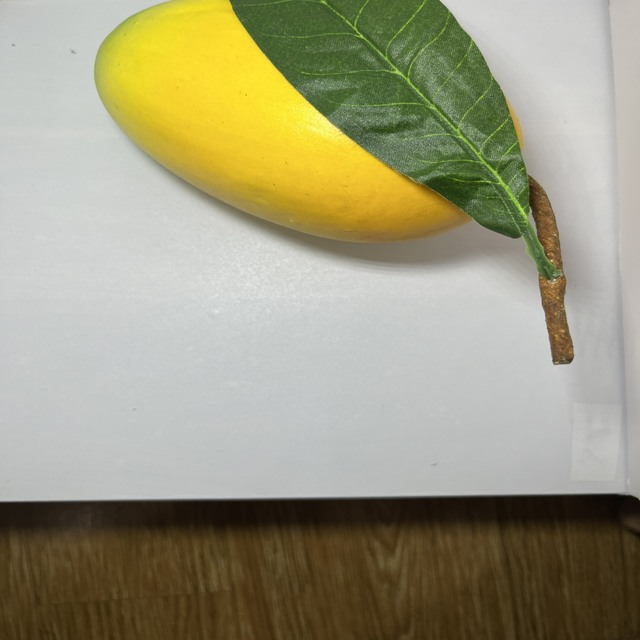Xoai: (78, 0, 528, 262)
